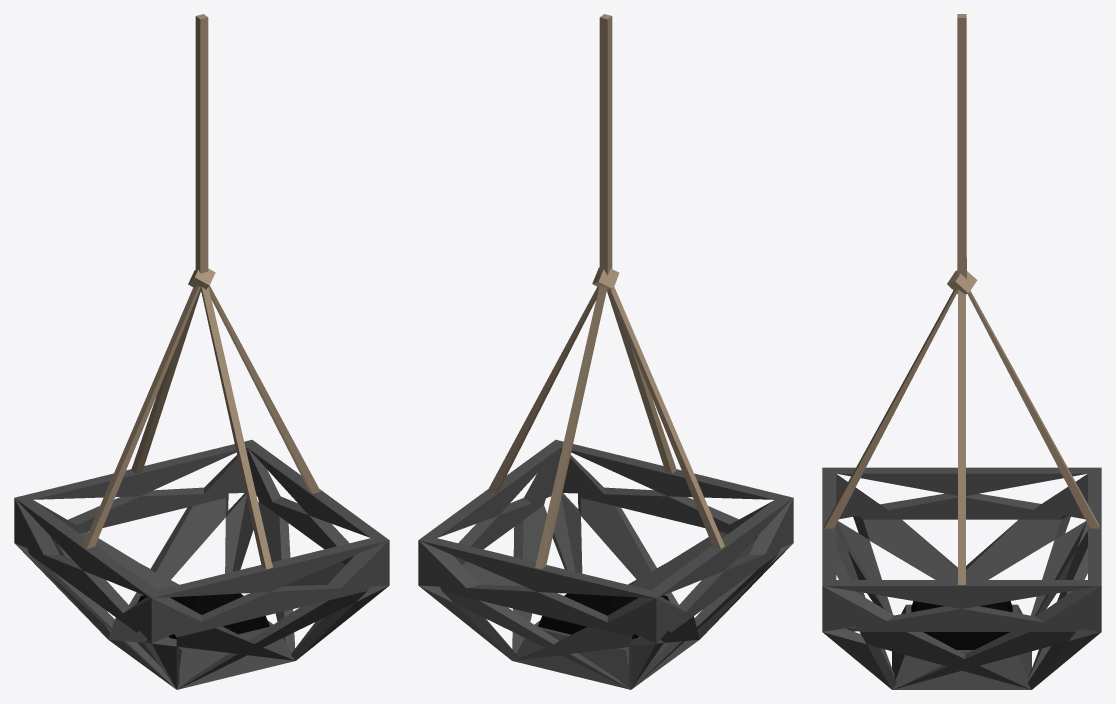
File: HangingBrazier.fbx
3 renders of one model, left to right at view 1: azimuth 30°, elevation 25°; view 2: azimuth 150°, elevation 25°; view 3: azimuth 270°, elevation 25°, orthographic.
Visible parts, largest first — view 1: HangingBrazier; view 2: HangingBrazier; view 3: HangingBrazier.
Boxes of the visible parts, x1,y1,x2,y2 form: HangingBrazier: [14, 14, 389, 689]; HangingBrazier: [418, 14, 793, 689]; HangingBrazier: [822, 14, 1101, 689].
Size of the model in its own units: 55 by 140 by 55.
